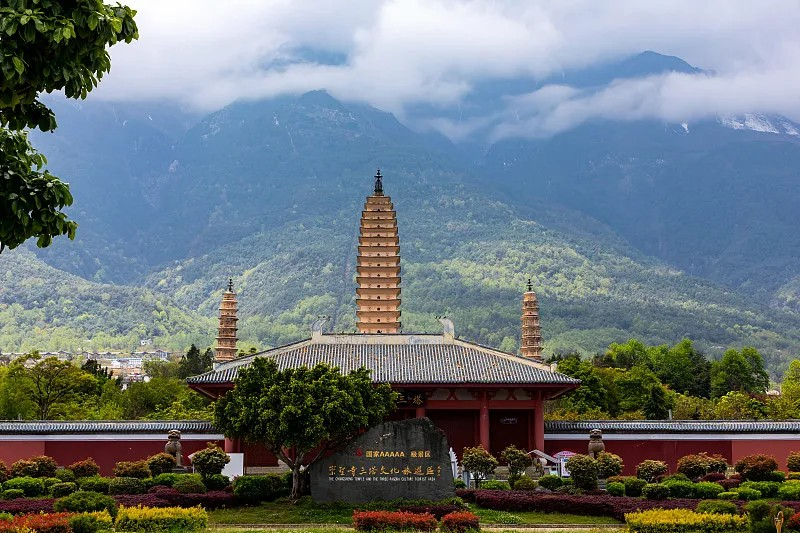ThreePagoda: (355, 168, 403, 335)
